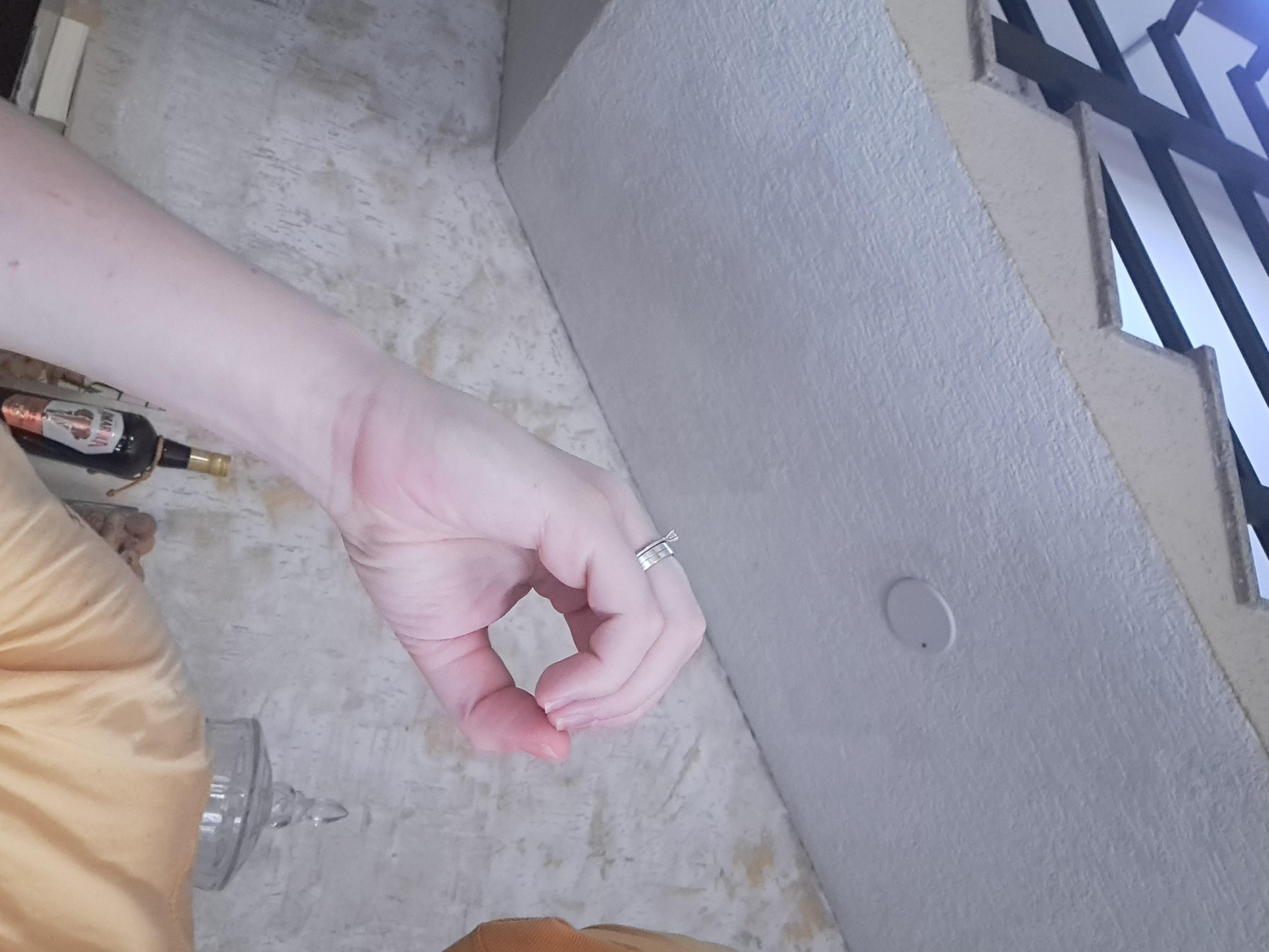O: (513, 417, 1021, 715)
